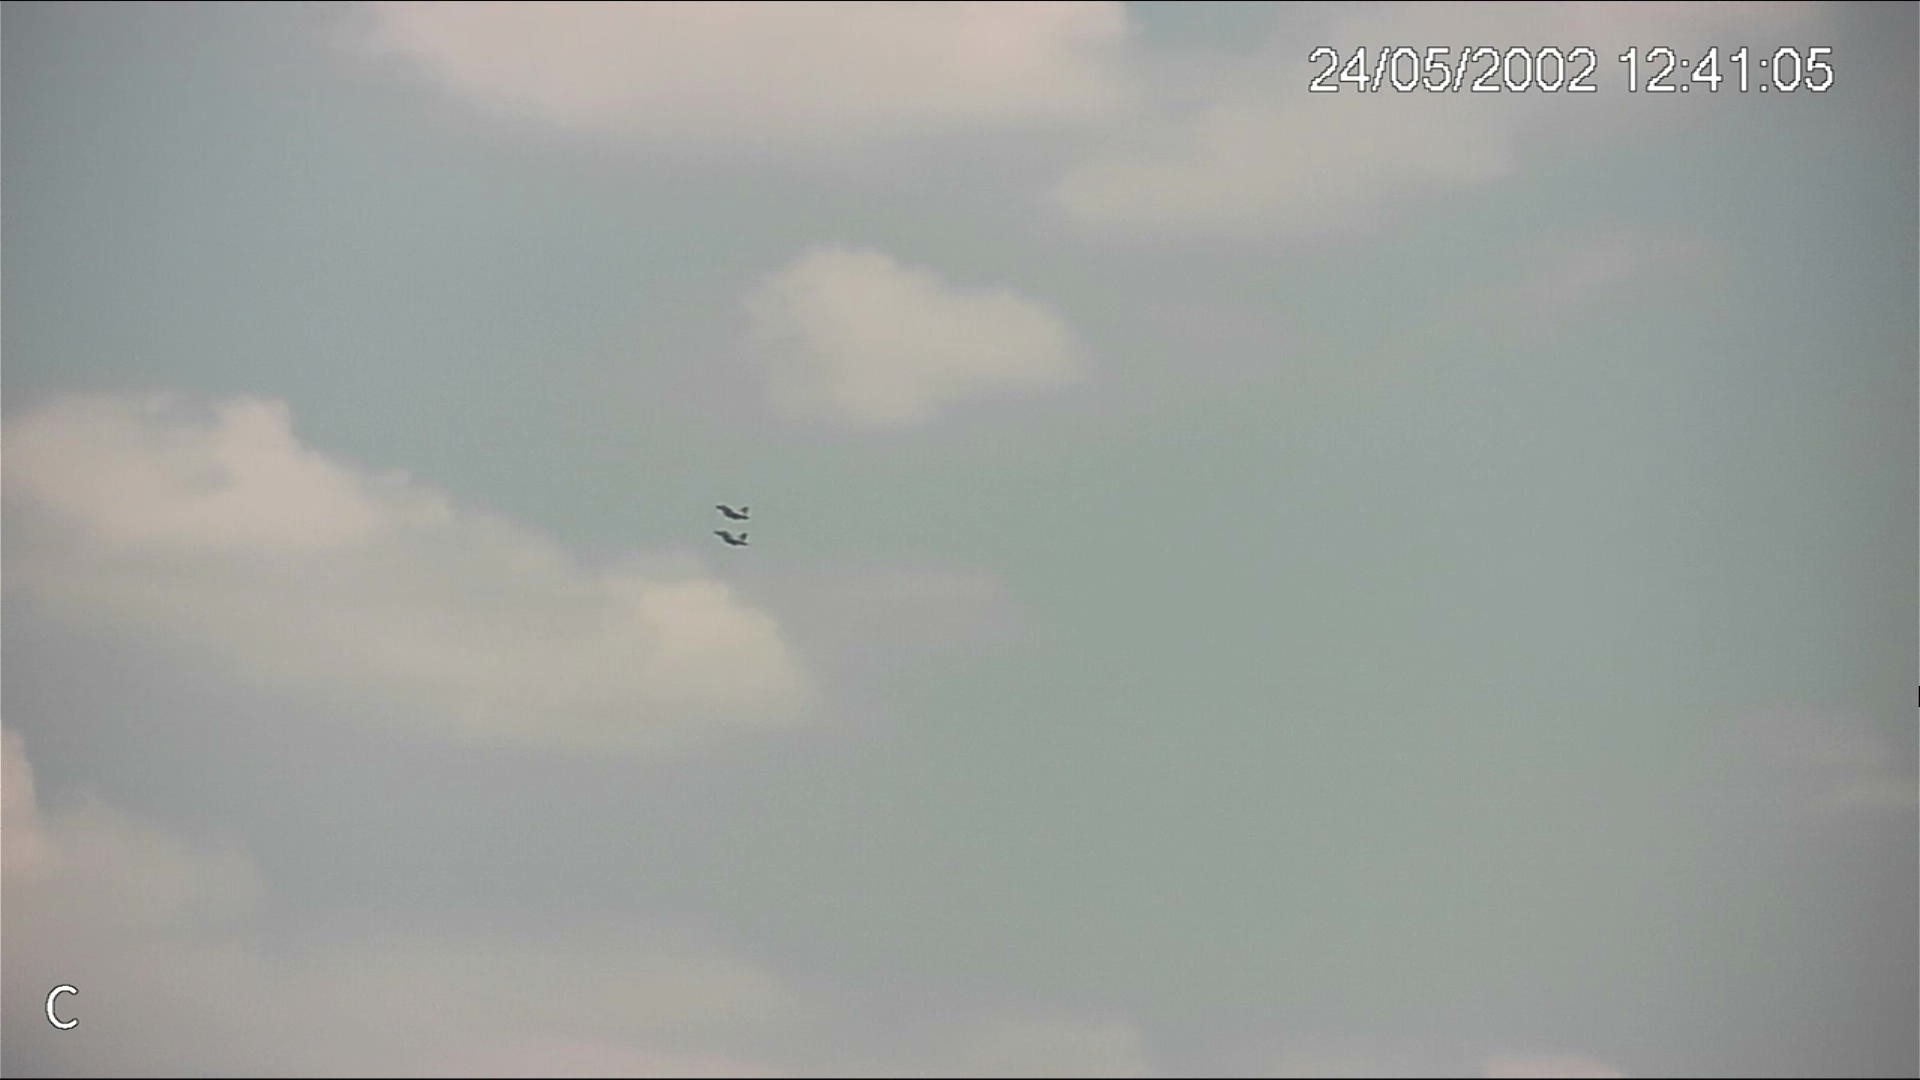SU_30: (715, 502, 754, 522), (713, 527, 750, 547)
